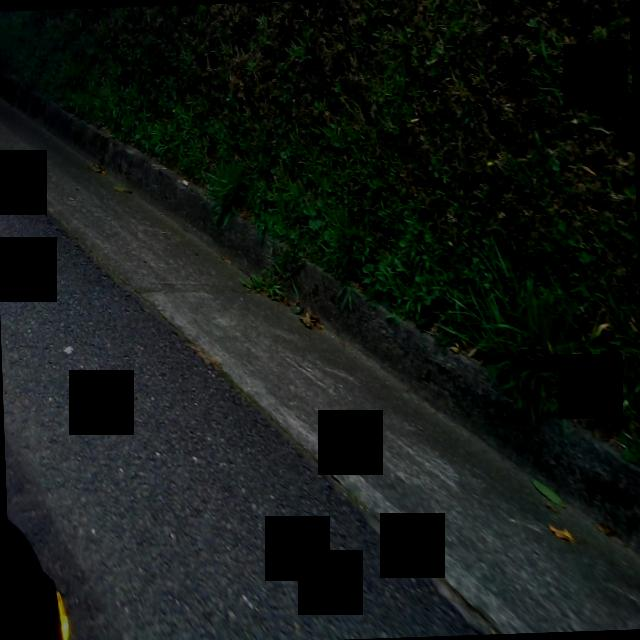DITCH: (0, 0, 640, 640), (0, 53, 640, 640)
